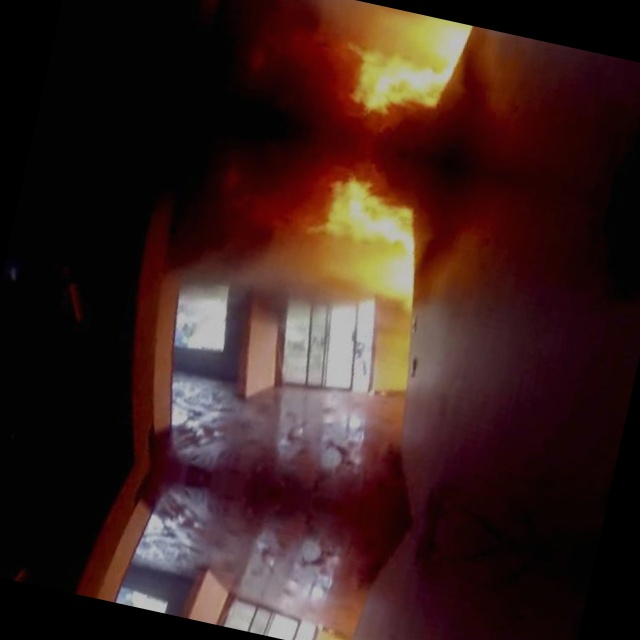fire: (247, 0, 529, 354)
